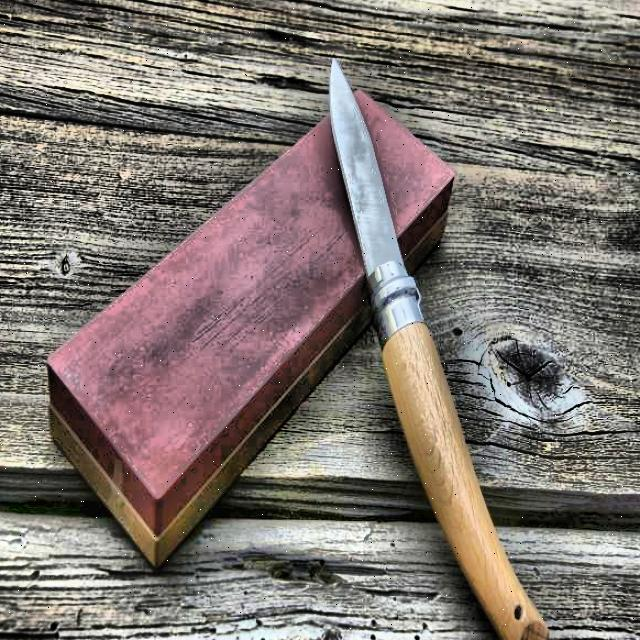knife: (327, 42, 555, 640)
